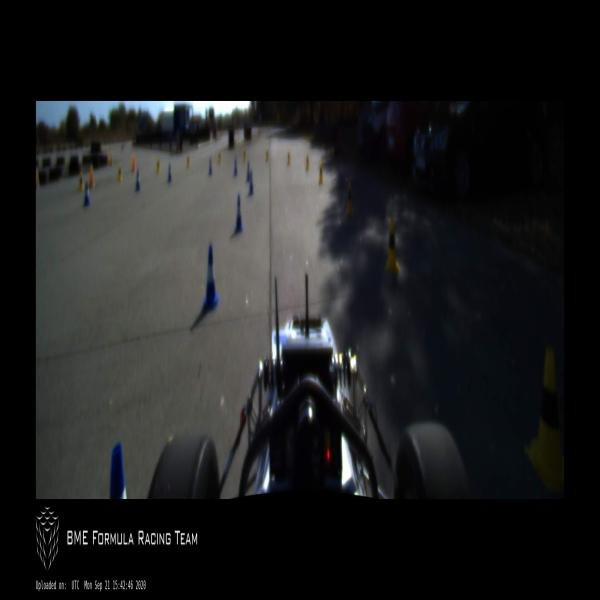blue_cone: (202, 244, 219, 313), (110, 444, 127, 499), (235, 195, 242, 233), (248, 170, 255, 196), (84, 182, 90, 207), (135, 169, 140, 192), (246, 162, 251, 182), (167, 163, 172, 183), (234, 159, 238, 176), (209, 157, 212, 176)
yellow_cone: (524, 346, 564, 498), (384, 218, 400, 277), (346, 182, 354, 216), (318, 160, 324, 183), (78, 172, 84, 192), (118, 165, 123, 183), (242, 148, 246, 162), (287, 148, 290, 166), (156, 157, 159, 175), (265, 147, 268, 163), (187, 152, 190, 168), (218, 150, 221, 164), (306, 152, 308, 170)
